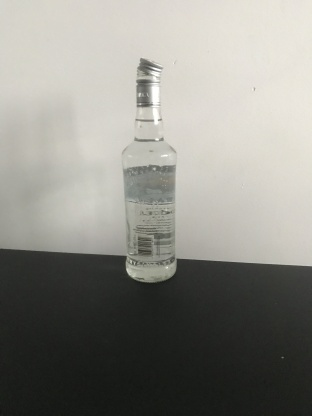nakretka: (134, 55, 164, 107)
